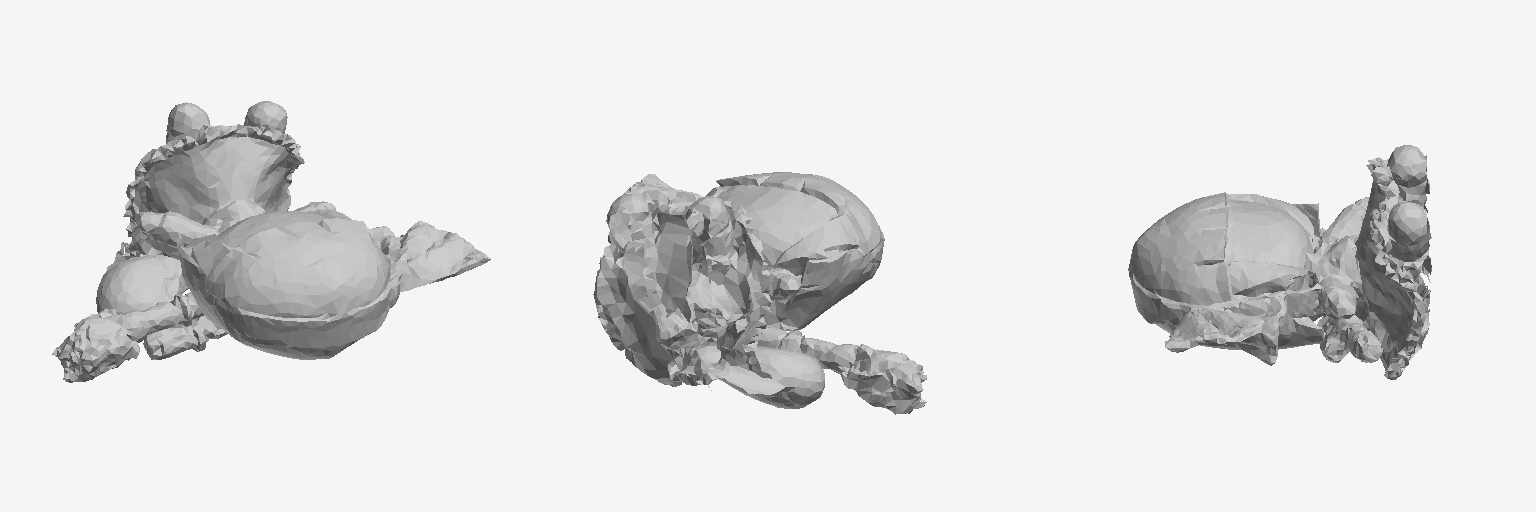
File: youmu.obj
3 views of the same model, side by side, from view 1: azimuth 30°, elevation 25°; view 2: azimuth 150°, elevation 25°; view 3: azimuth 270°, elevation 25° (orthographic).
Visible parts, largest first — view 1: Youmu_low; view 2: Youmu_low; view 3: Youmu_low.
Part boxes in pixels (left/top/right/bottom): Youmu_low: left=52, top=101, right=490, bottom=382; Youmu_low: left=593, top=172, right=926, bottom=414; Youmu_low: left=1128, top=145, right=1431, bottom=379.
Size of the model in its own units: 38.27 by 21.81 by 28.24.